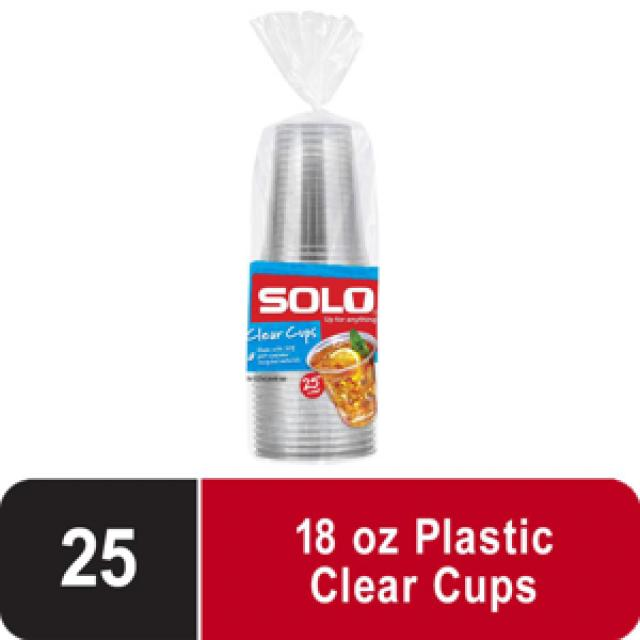plastic cup: (245, 117, 386, 465)
